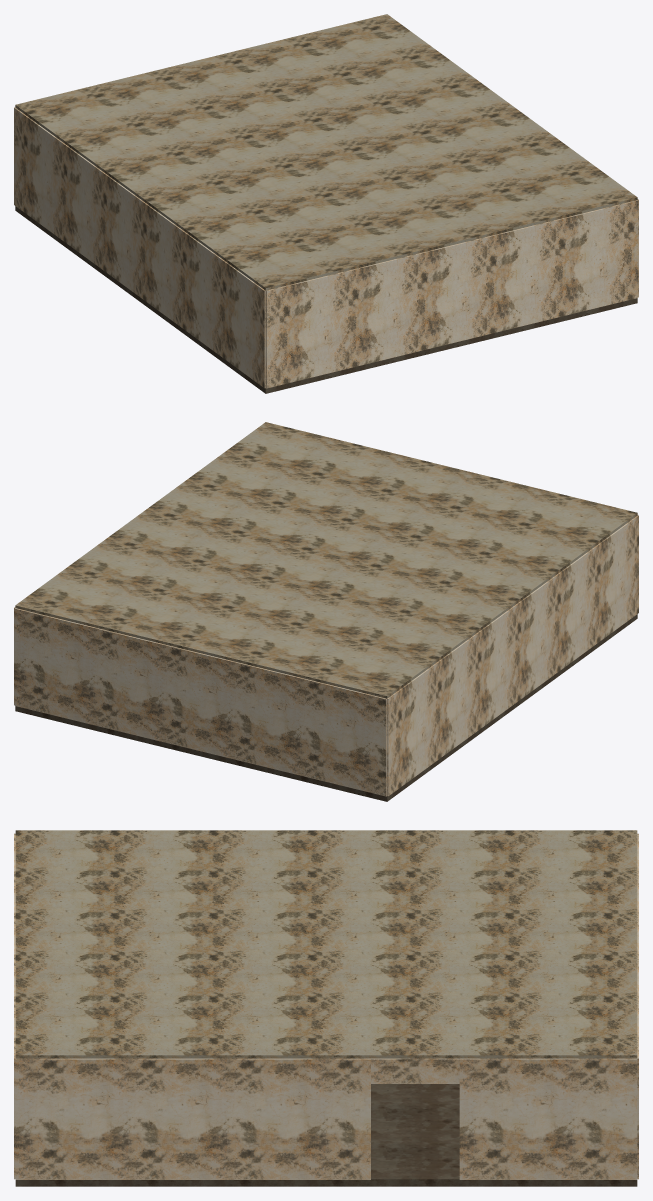
The model's file is room_shell.glb.
3 views of the same model, one above another, from view 1: azimuth 30°, elevation 25°; view 2: azimuth 150°, elevation 25°; view 3: azimuth 270°, elevation 25° (orthographic). The views are drawn at different scales.
Bounding box in the file's own units: 12.08 × 3.26 × 14.08.
Materials: 3 (3 with a texture image).
